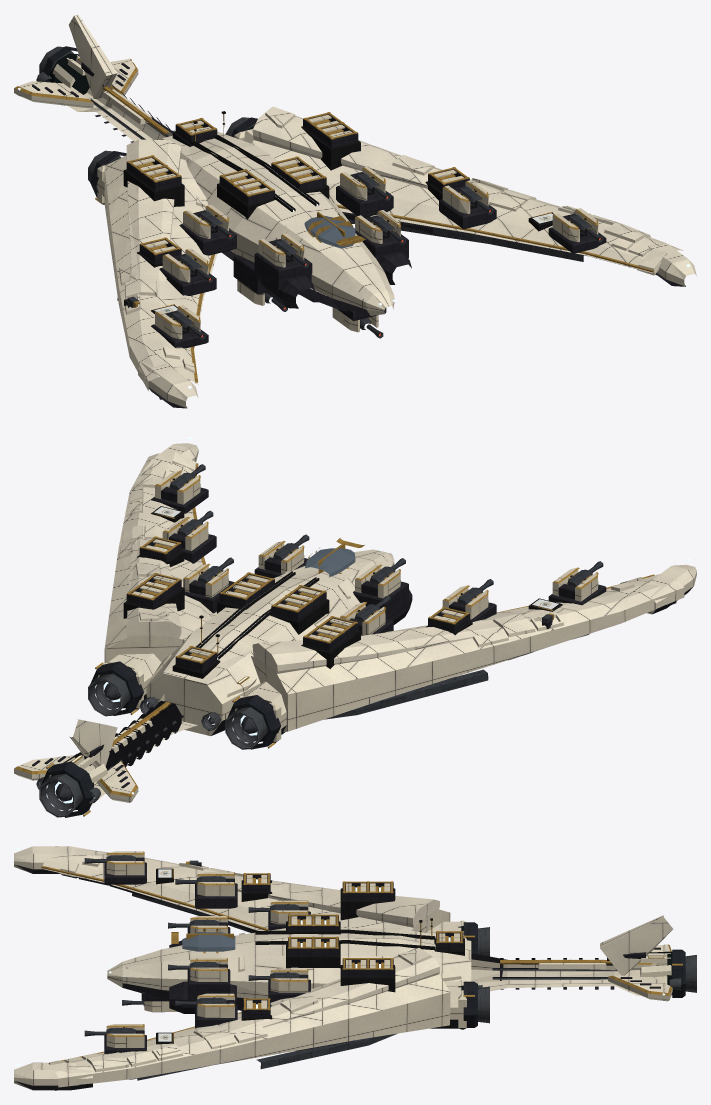
The model's file is europa-schiff7.glb.
3 renders of one model, top to bottom at view 1: azimuth 30°, elevation 25°; view 2: azimuth 150°, elevation 25°; view 3: azimuth 270°, elevation 25°, orthographic. The views are drawn at different scales.
Visible parts, largest first — view 1: Hull_LOD0; view 2: Hull_LOD0; view 3: Hull_LOD0.
Part boxes in pixels (x1,y1,x2,y2): Hull_LOD0: [14, 14, 696, 408]; Hull_LOD0: [14, 437, 696, 817]; Hull_LOD0: [14, 846, 696, 1090].
Bounding box in the file's own units: 76.55 × 15.55 × 95.
6 materials, 4 textured.
